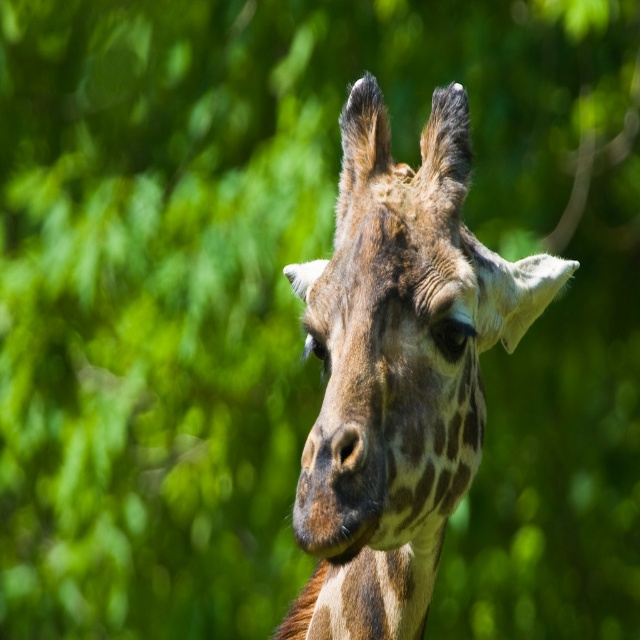Giraffe: (265, 68, 580, 639)
